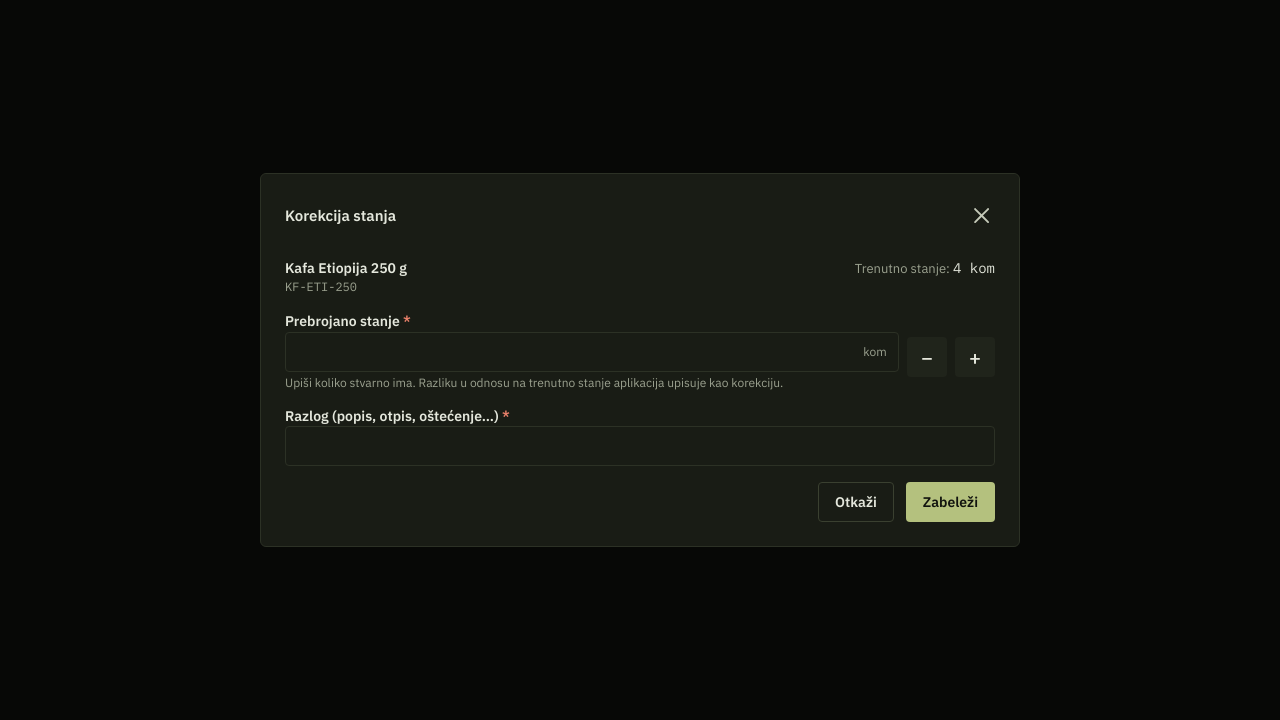
Scenario: MovementModal › Type_Count_ShowsDifferenceFromCurrentStock
Type "7" into the field labelled "Prebrojano stanje *" at (592, 352), box [285, 332, 899, 372]
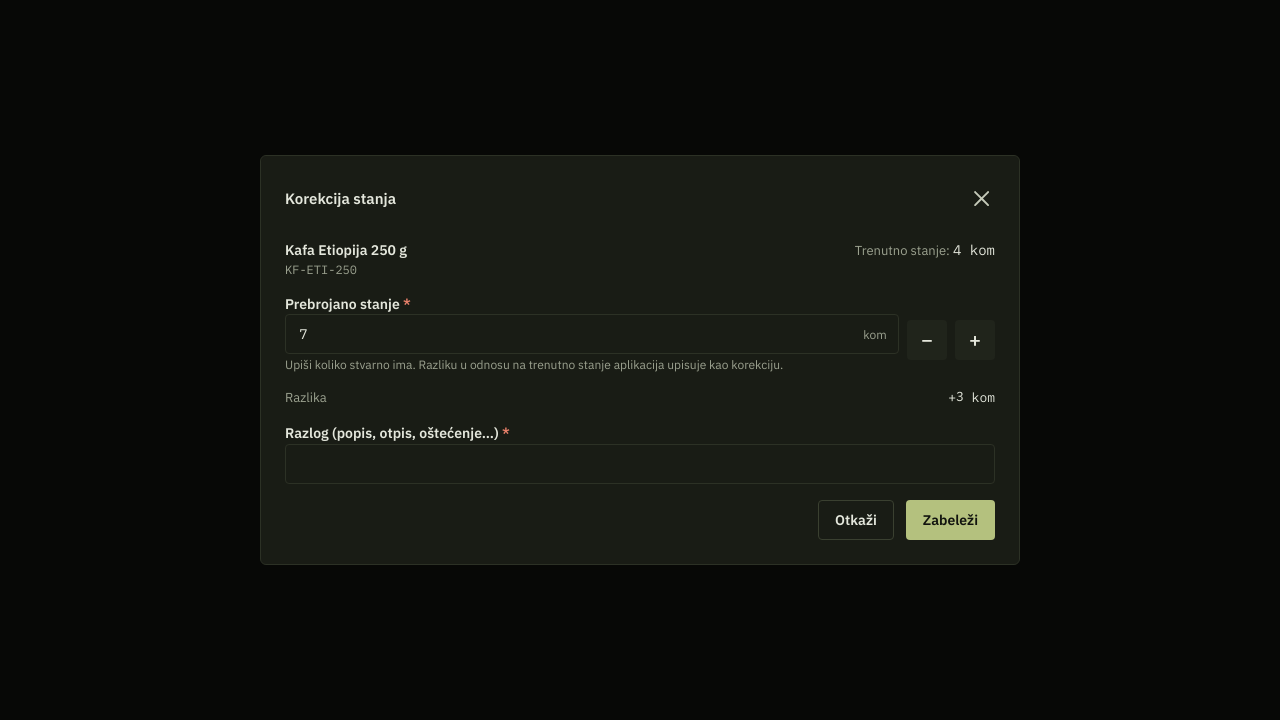
Expected: the text "Razlika" is shown, [285, 389, 327, 407]
